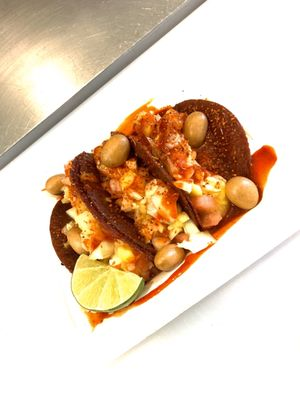sandwich: (0, 0, 209, 179)
